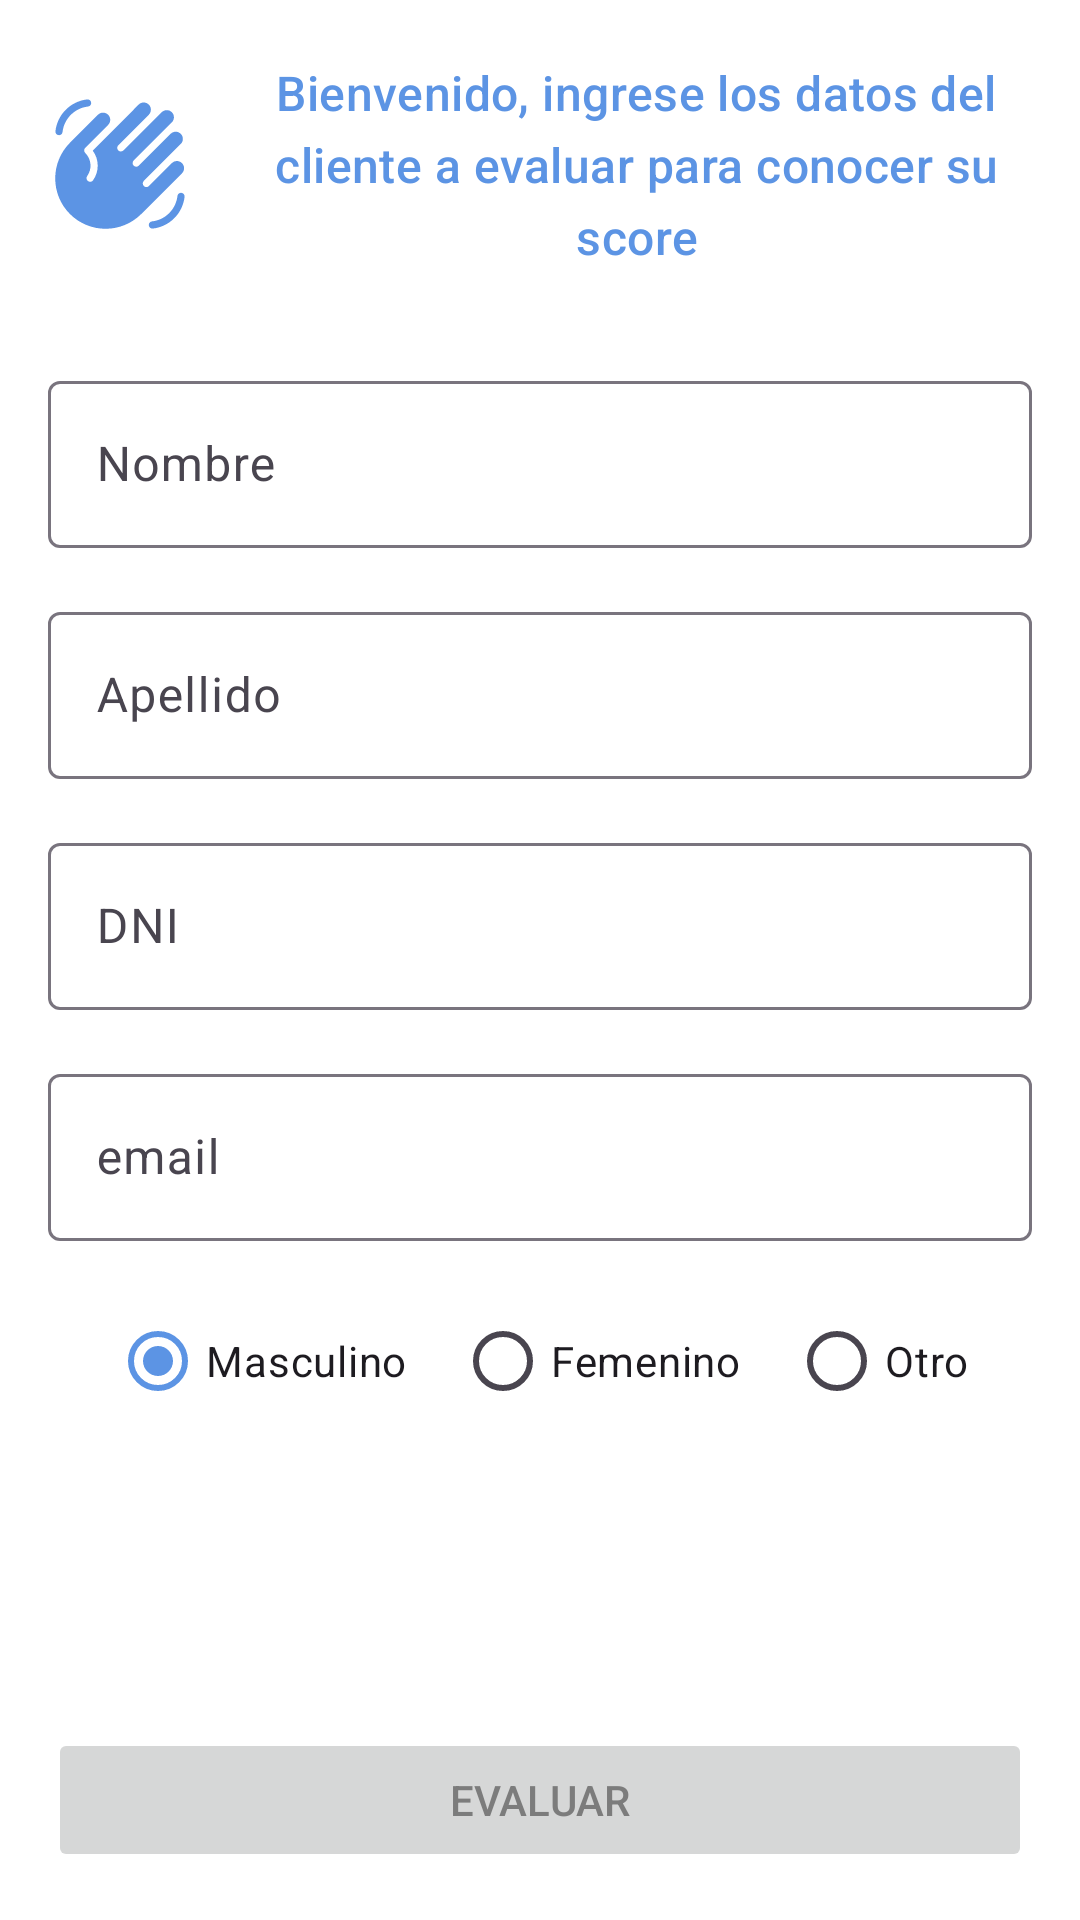

Icons on this 1080 x 1920 Android screen, each with the point to tap as [x,y]:
waving hand: [120,164]
